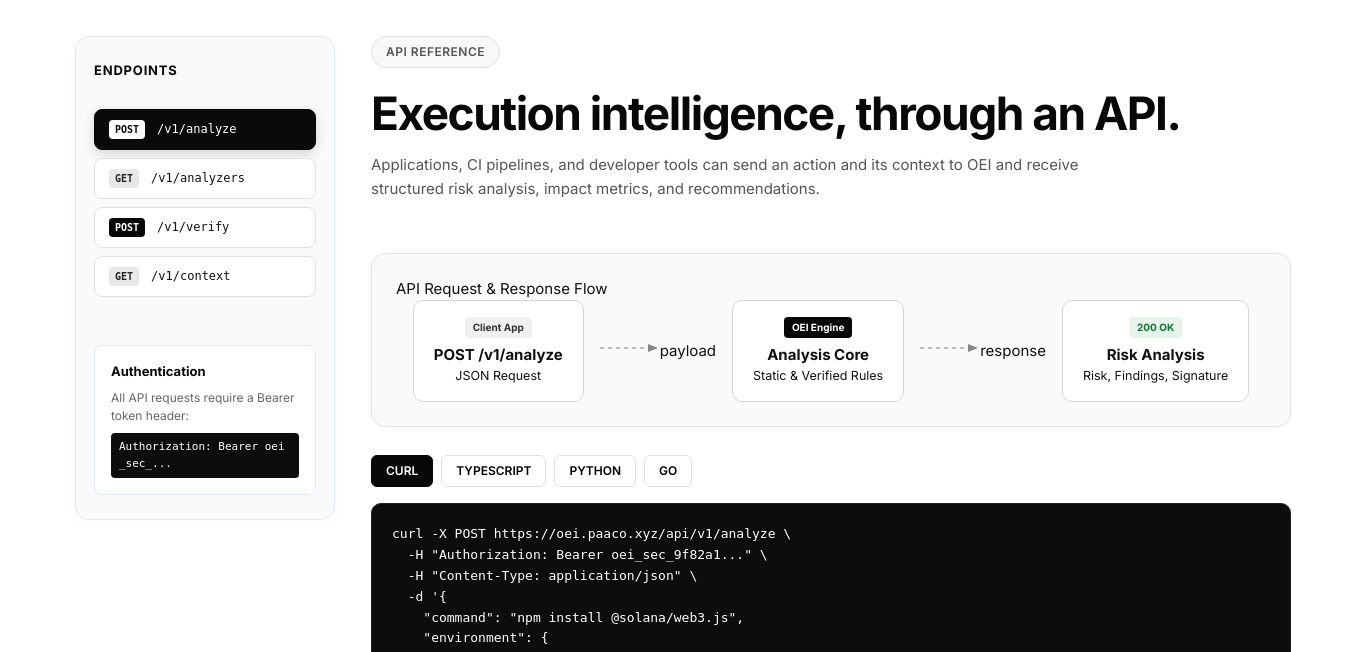
Test: ApiPage › renders the GO sample when its tab is selected
The image size is (1366, 652).
Click the button "GO" at (668, 471), box [644,455,692,487]
(page scrolled)
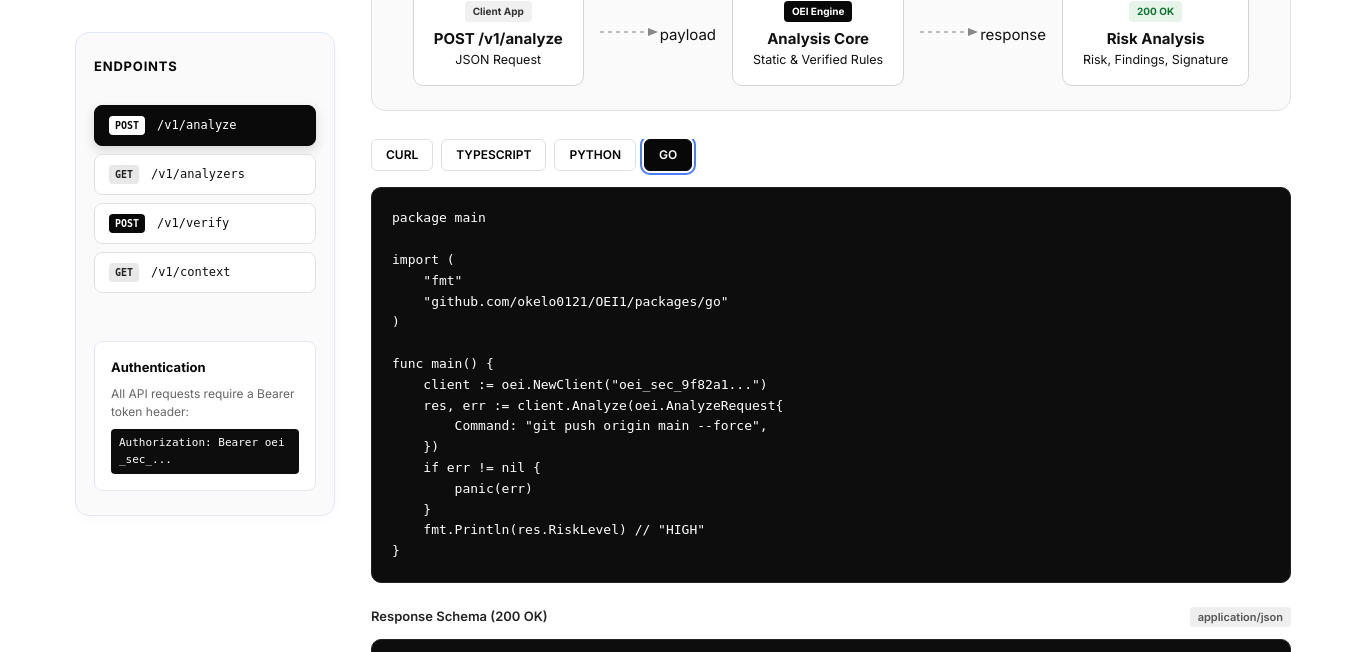
Expected: the text "package main" is shown, [392,210,783,558]
